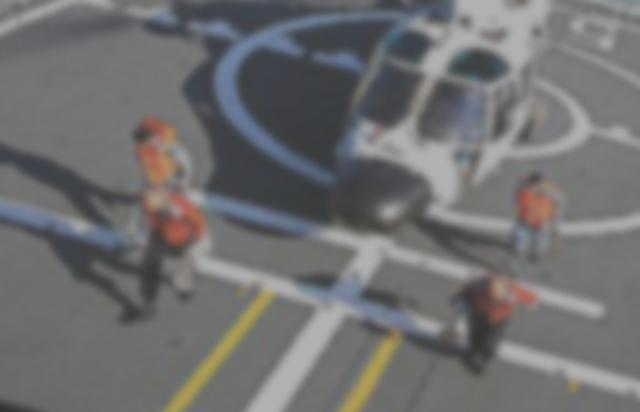Apron: (200, 1, 636, 266)
